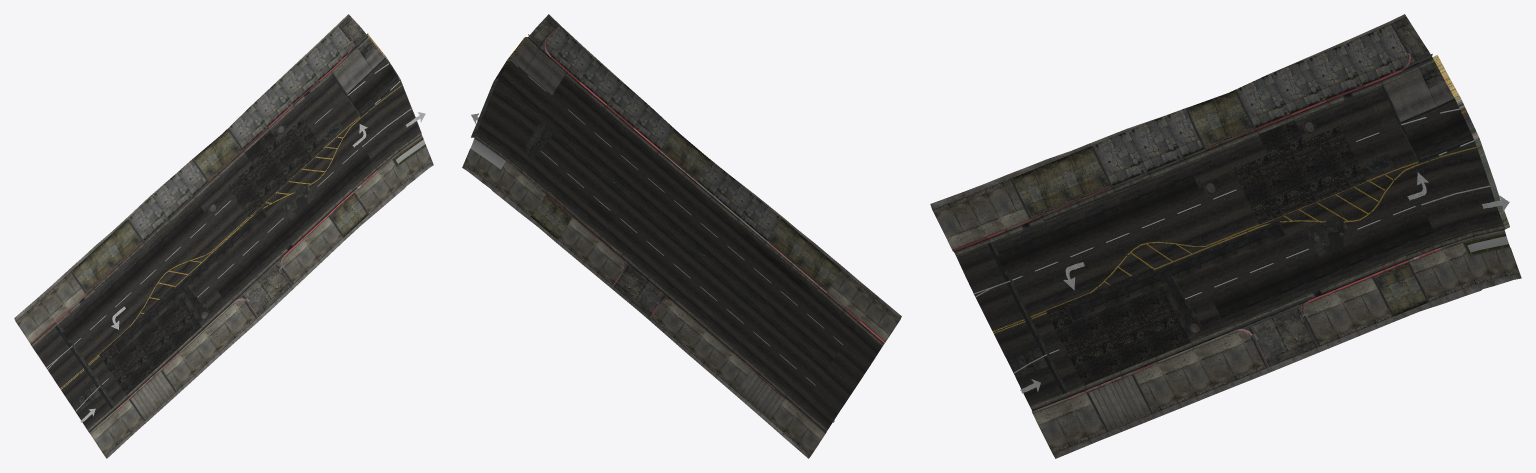
The picture shows the model from 3 angles, left to right: view 1: azimuth 30°, elevation 25°; view 2: azimuth 150°, elevation 25°; view 3: azimuth 330°, elevation 25°; orthographic projection. The views are drawn at different scales.
Visible parts, largest first — view 1: sc1_rd_r1_04x; view 2: sc1_rd_r1_04x; view 3: sc1_rd_r1_04x.
Part boxes in pixels (x1=…): sc1_rd_r1_04x: x1=14, y1=14, x2=433, y2=458; sc1_rd_r1_04x: x1=462, y1=14, x2=901, y2=458; sc1_rd_r1_04x: x1=930, y1=14, x2=1521, y2=458.
Bounding box in the file's own units: 8533 × 7286 × 342.
